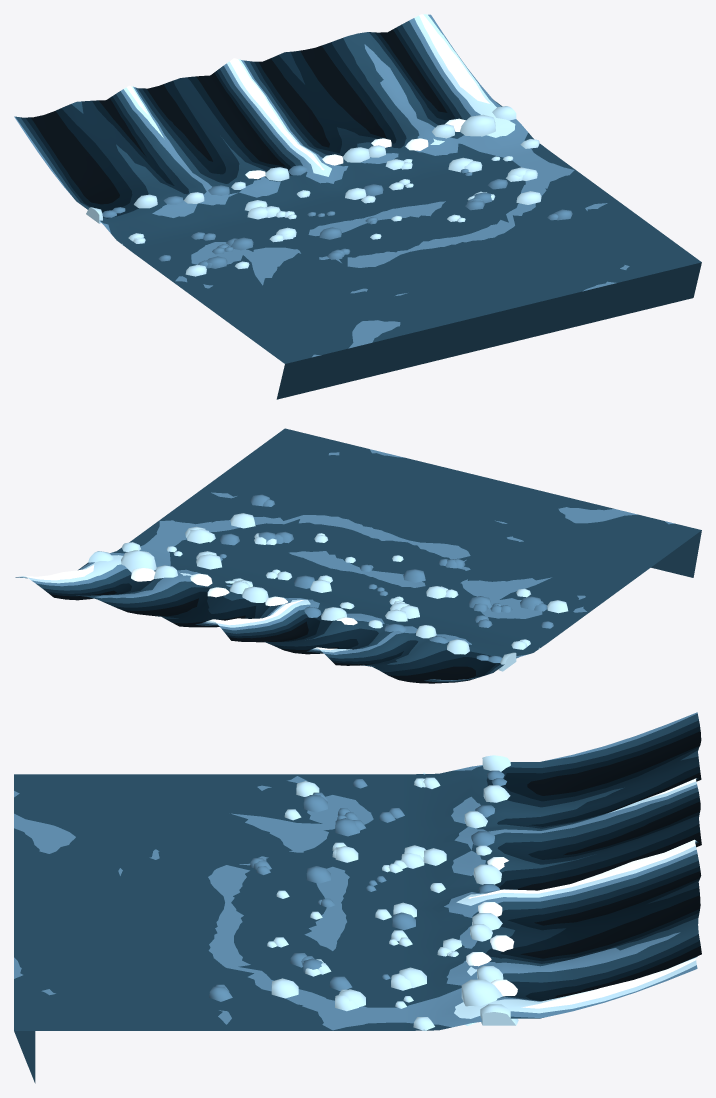
The model's file is torm_fall_bm_274.glb.
3 renders of one model, top to bottom at view 1: azimuth 30°, elevation 25°; view 2: azimuth 150°, elevation 25°; view 3: azimuth 270°, elevation 25°, orthographic. The views are drawn at different scales.
Visible parts, largest first — view 1: torm_fall_bm_274; view 2: torm_fall_bm_274; view 3: torm_fall_bm_274.
Boxes of the visible parts, bbox=[...] form: torm_fall_bm_274: bbox=[14, 14, 701, 399]; torm_fall_bm_274: bbox=[15, 428, 701, 683]; torm_fall_bm_274: bbox=[14, 712, 701, 1083].
Size of the model in its own units: 24 by 5.33 by 27.19.
